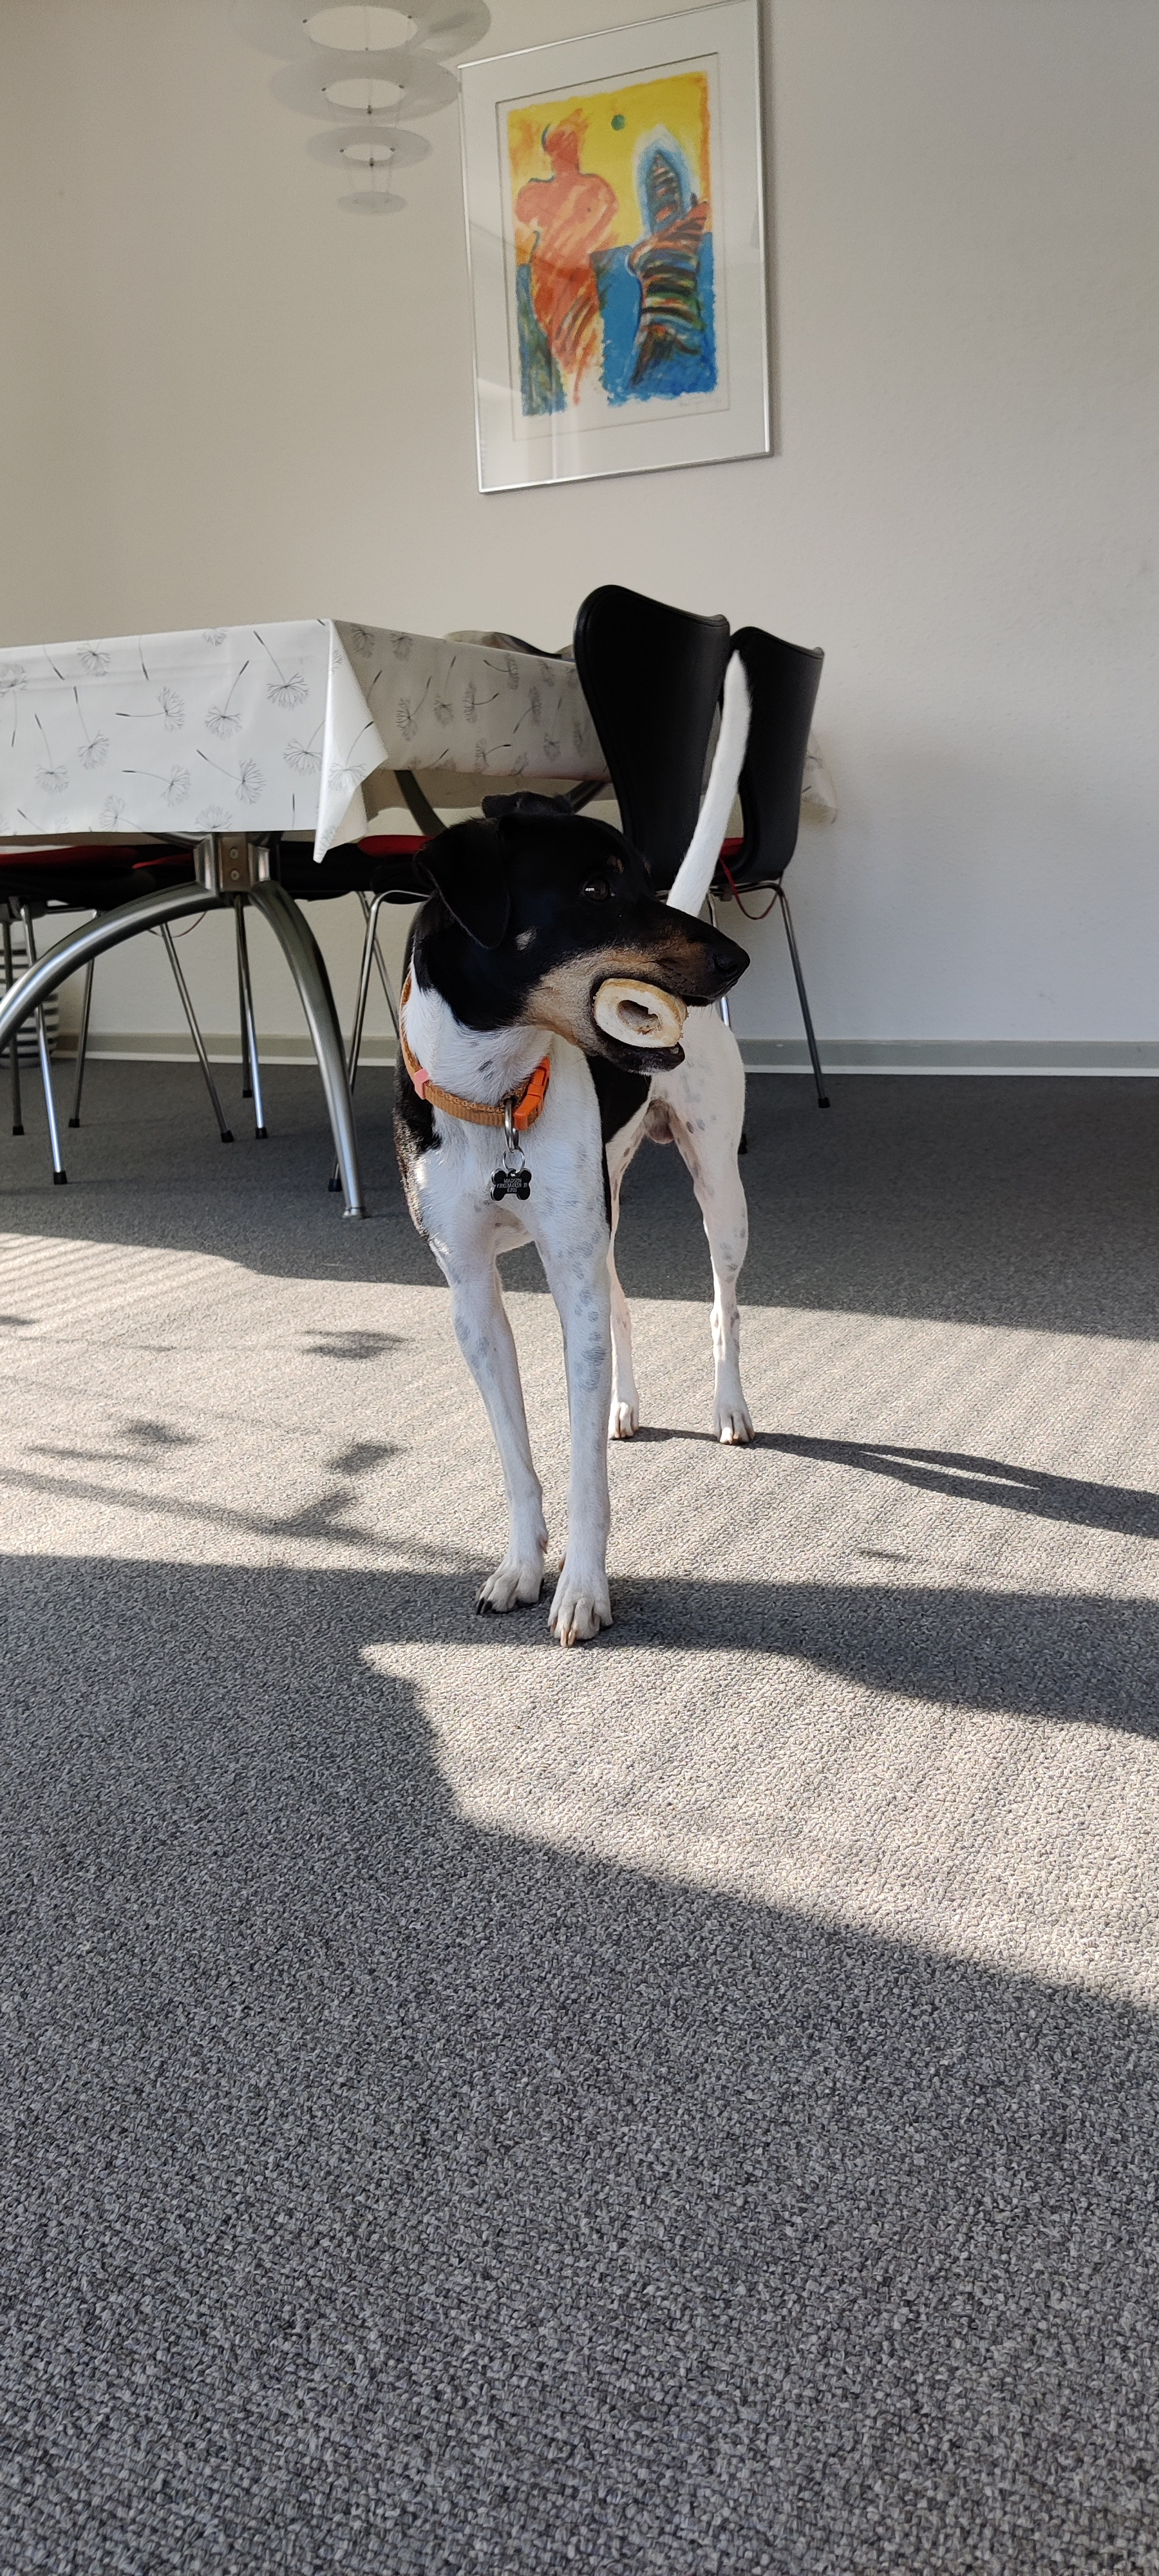Dog: (360, 779, 799, 1663)
